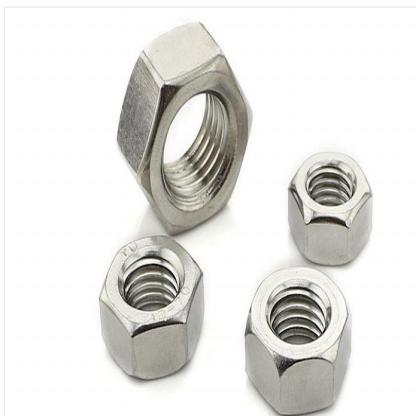FOD: (113, 17, 256, 238), (243, 265, 356, 415), (96, 234, 204, 383), (283, 149, 375, 266)
